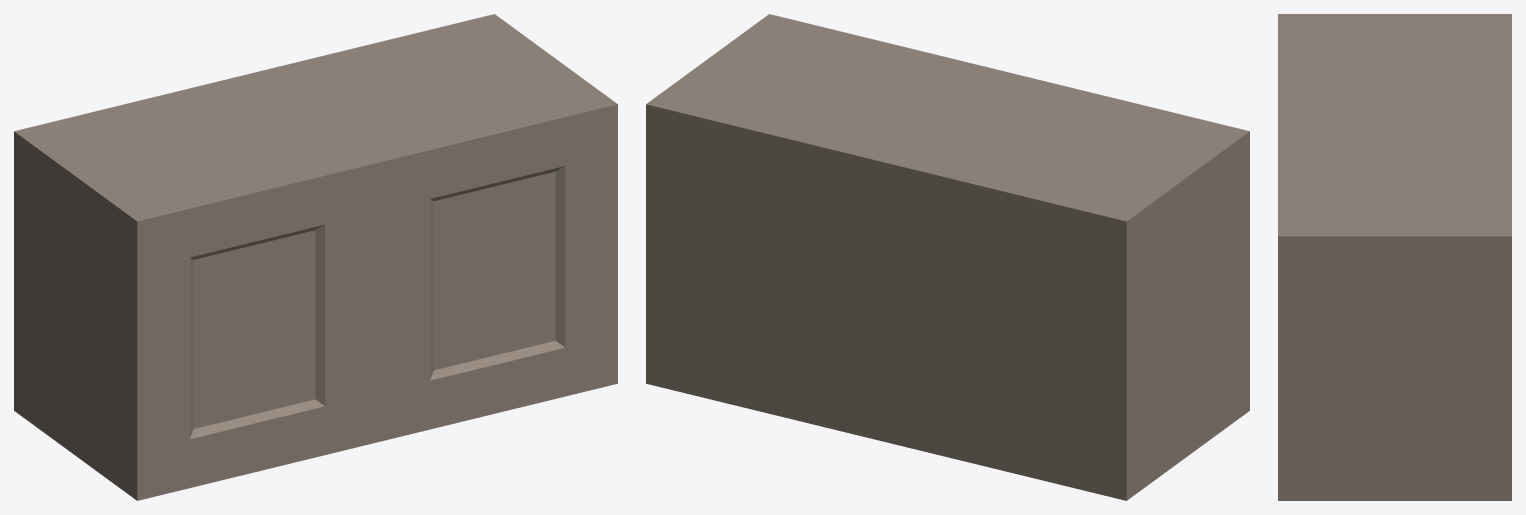
The model's file is 12-15-High-12-Deep_std_001_W27in_2D.glb.
3 views of the same model, side by side, from view 1: azimuth 30°, elevation 25°; view 2: azimuth 150°, elevation 25°; view 3: azimuth 270°, elevation 25° (orthographic). The views are drawn at different scales.
Parts seen in each view (by area): view 1: 12-15-High-12-Deep.std.001_W27in_2D; view 2: 12-15-High-12-Deep.std.001_W27in_2D; view 3: 12-15-High-12-Deep.std.001_W27in_2D.
Part boxes in pixels (x1,y1,x2,y2): 12-15-High-12-Deep.std.001_W27in_2D: (14,14,617,500); 12-15-High-12-Deep.std.001_W27in_2D: (646,14,1249,500); 12-15-High-12-Deep.std.001_W27in_2D: (1278,14,1511,500).
Bounding box in the file's own units: 0.6858 × 0.381 × 0.3048.
